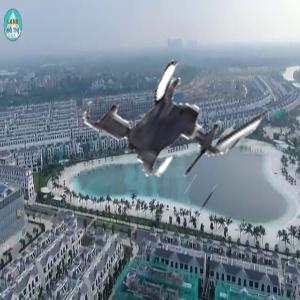drone: (84, 44, 247, 207)
